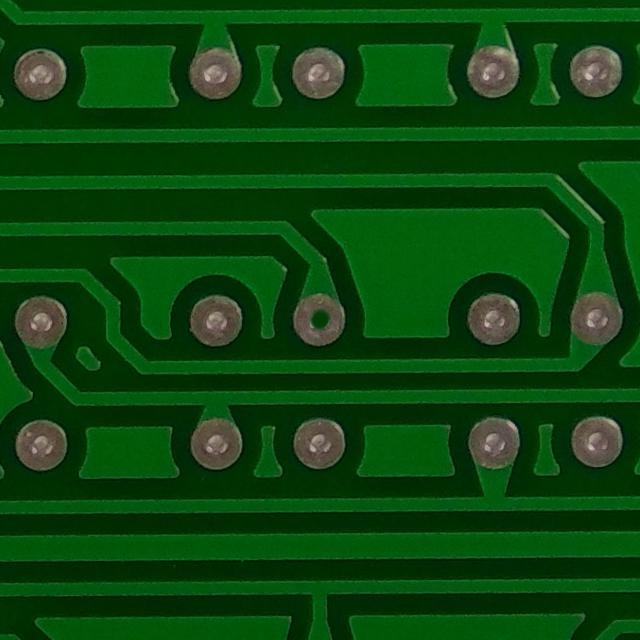missing_hole: (286, 286, 353, 355)
